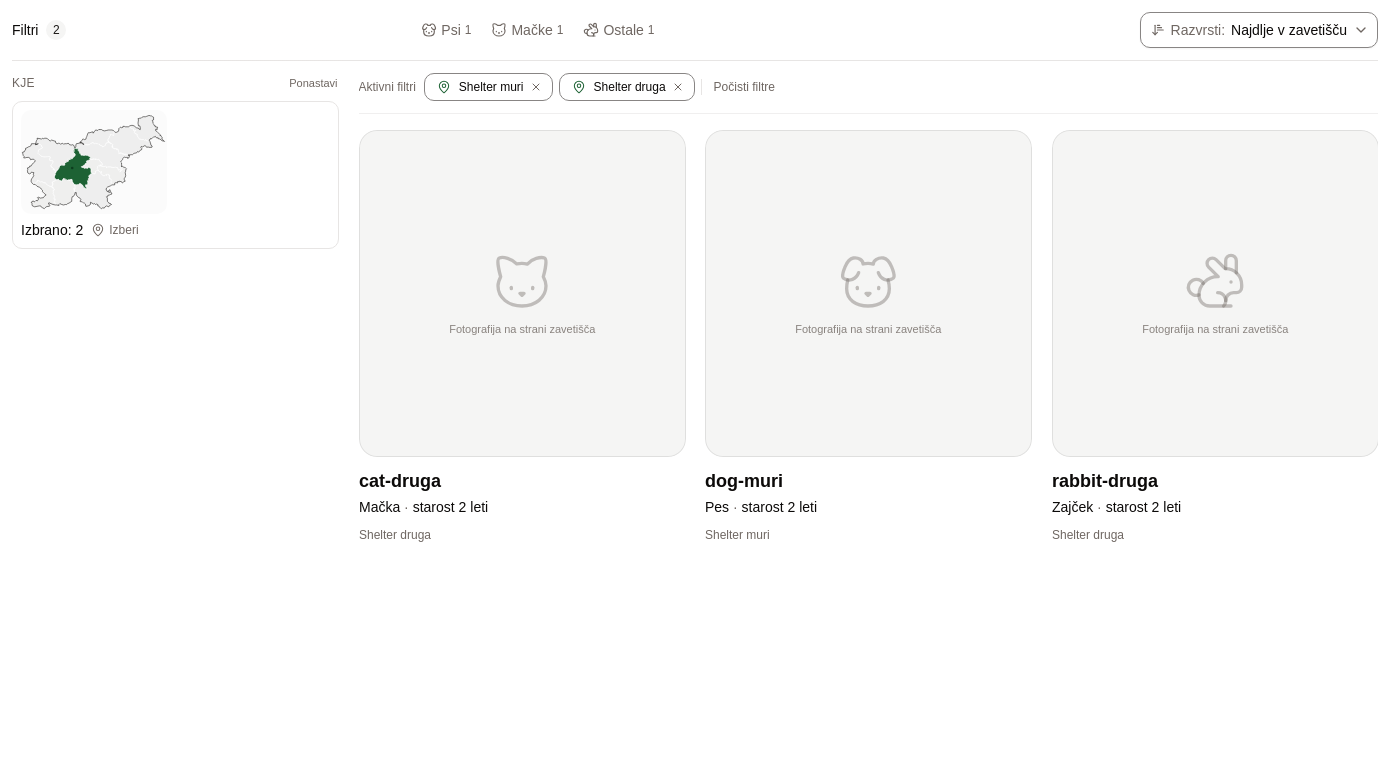
Test: the widening arrival › keeps the ordinary treatment for a filter that only narrows
Expected: the element "dog-muri" is shown, [705,130,1032,554]
What coordinates should you click on to do the following:
click the button with aria-label "Odstrani filter Shelter druga"
I would click on:
 (626, 87)
Its box is [558,73,694,101].
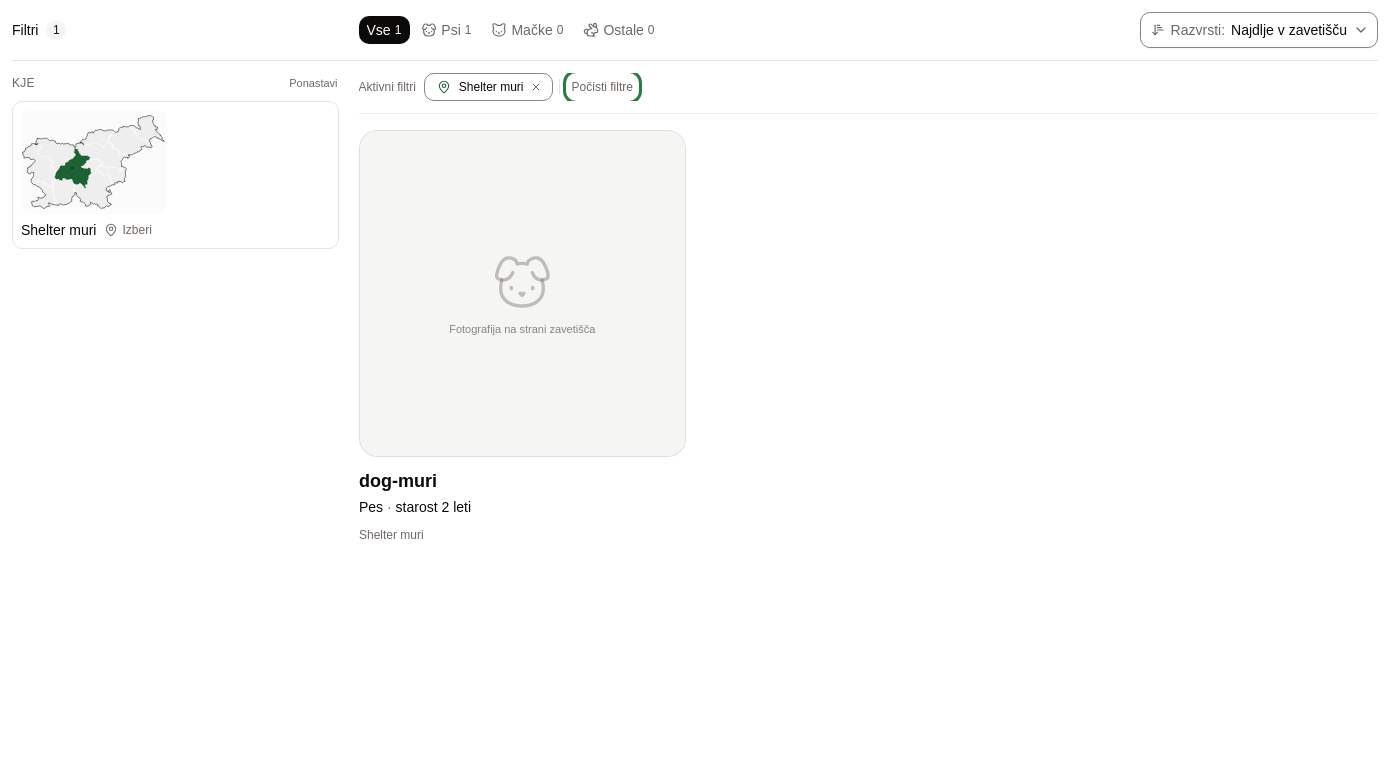
Expected: the link "cat-druga" is gone
